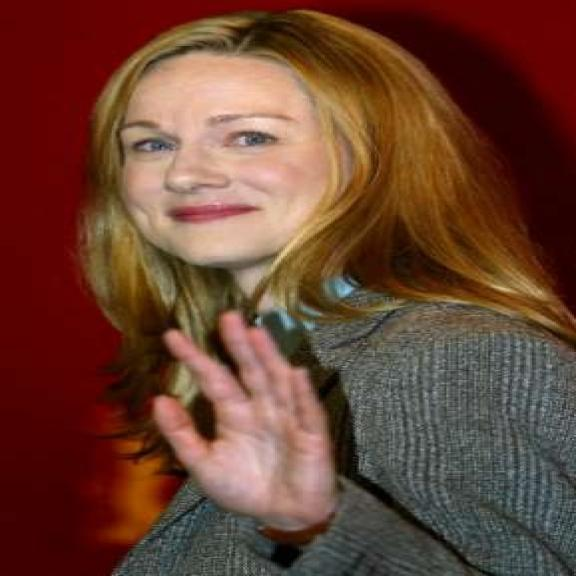face: (103, 54, 364, 272)
